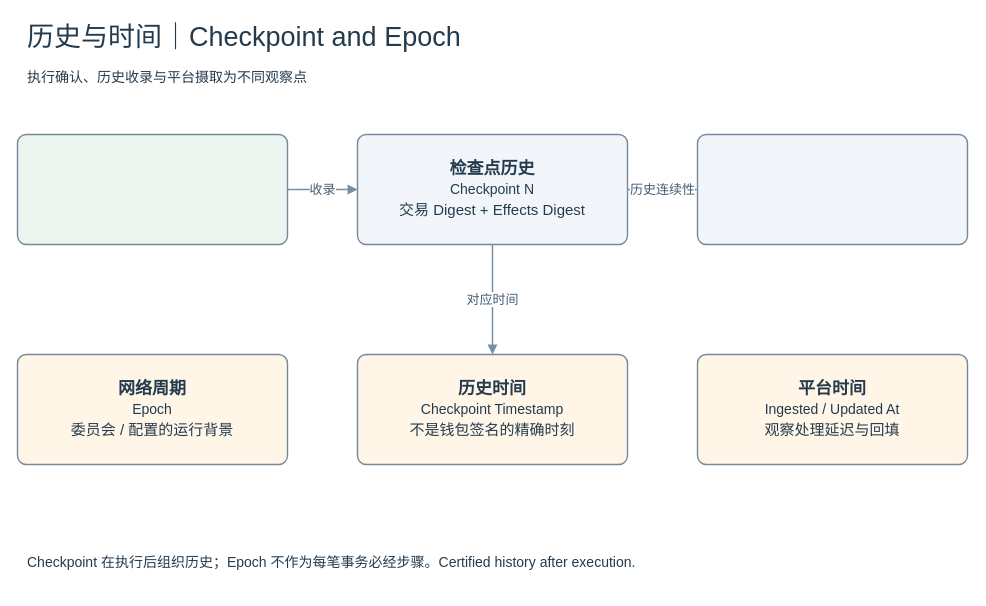
Image size: 986x606. Some labels were removed from this diagram. Here are the shapes that lost their labels. From the top down, the centre of each, then its label:
At [152,189]: "已执行事务 Transaction + Effects 结果可获得最终确认".
At [832,189]: "后续检查点 Checkpoint N+1 引用前一检查点哈希".
